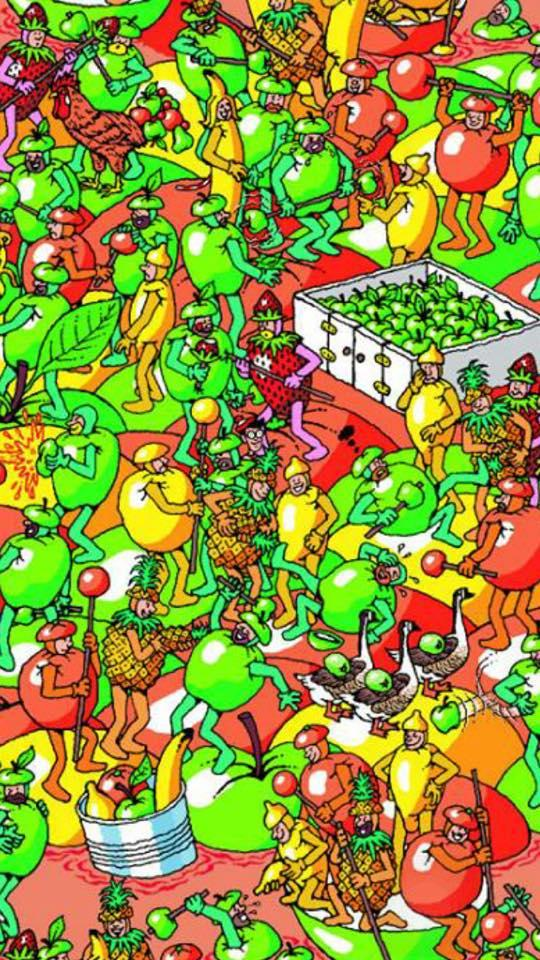waldo: (233, 413, 266, 458)
